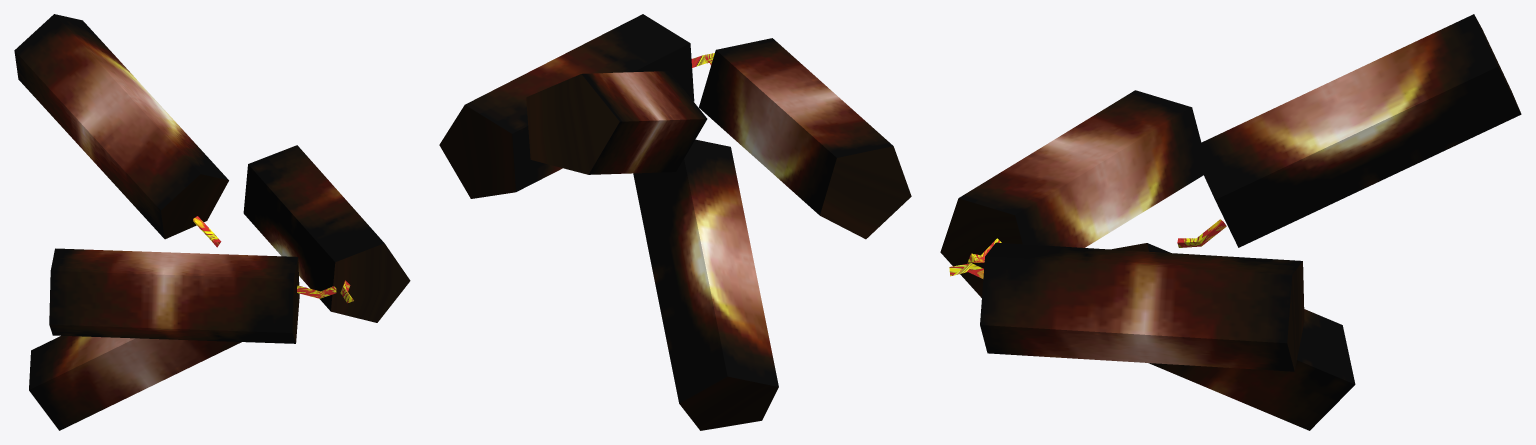
Rendered from tx_diubaozhu_fire.obj.
The picture shows the model from 3 angles, left to right: view 1: azimuth 30°, elevation 25°; view 2: azimuth 150°, elevation 25°; view 3: azimuth 270°, elevation 25°; orthographic projection. The views are drawn at different scales.
Parts seen in each view (by area): view 1: tx#1, tx#04, tx#02, tx#03; view 2: tx#03, tx#1, tx#04, tx#02; view 3: tx#02, tx#04, tx#1, tx#03.
Part boxes in pixels (bbox=[...]): tx#1: bbox=[49, 248, 336, 343]; tx#04: bbox=[14, 14, 228, 247]; tx#02: bbox=[243, 145, 410, 322]; tx#03: bbox=[29, 335, 241, 430]; tx#03: bbox=[633, 139, 778, 430]; tx#1: bbox=[699, 38, 911, 239]; tx#04: bbox=[526, 71, 707, 174]; tx#02: bbox=[439, 14, 714, 198]; tx#02: bbox=[949, 242, 1304, 371]; tx#04: bbox=[1177, 14, 1521, 247]; tx#1: bbox=[940, 90, 1203, 297]; tx#03: bbox=[1111, 243, 1355, 430].
Size of the model in its own units: 18.36 by 17.8 by 21.28.
2 materials, 2 textured.
